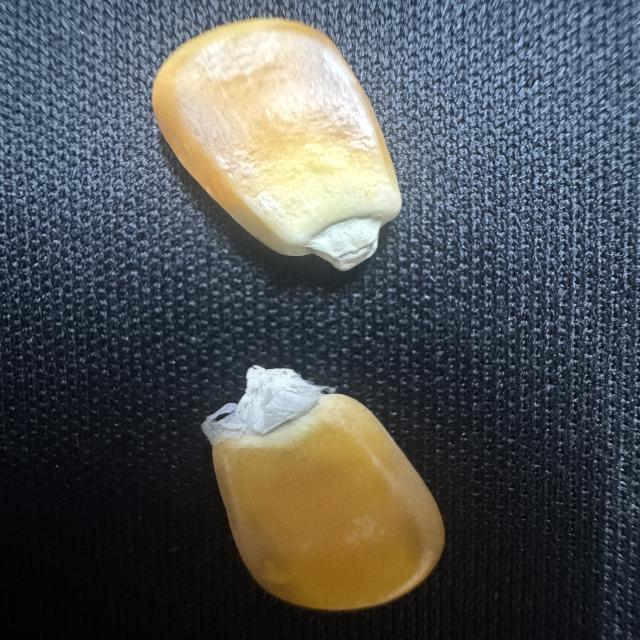Good-Seed: (148, 10, 407, 273), (200, 361, 458, 612)
